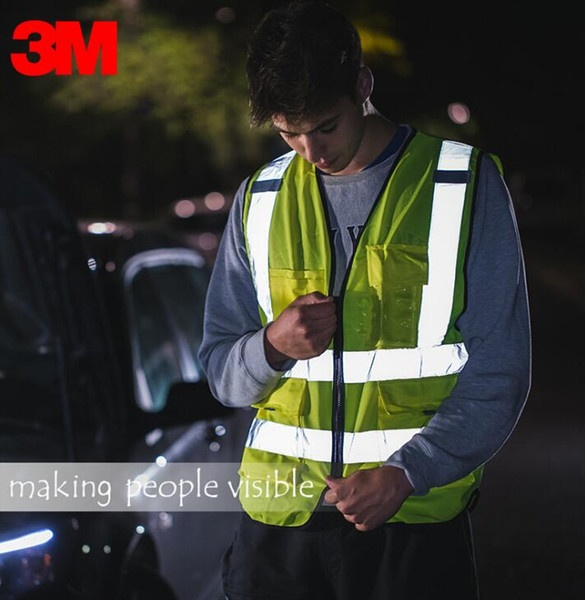person with partial safety: (217, 14, 513, 600)
safety vest: (242, 141, 479, 519)
